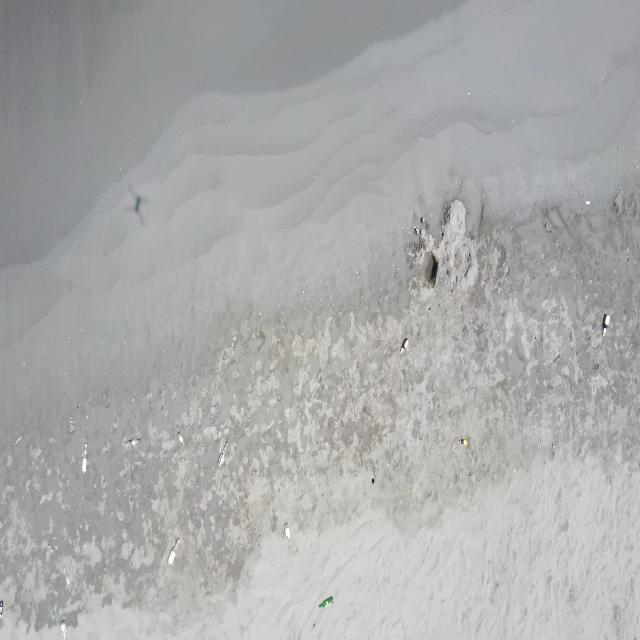glass: (167, 538, 180, 564), (217, 441, 228, 468), (81, 441, 88, 475), (284, 523, 292, 552), (602, 314, 611, 337), (124, 437, 141, 449), (318, 596, 334, 608), (60, 618, 67, 640), (400, 339, 410, 354), (64, 568, 72, 586), (177, 432, 185, 445), (458, 438, 468, 447), (0, 599, 4, 619), (47, 544, 54, 554)
